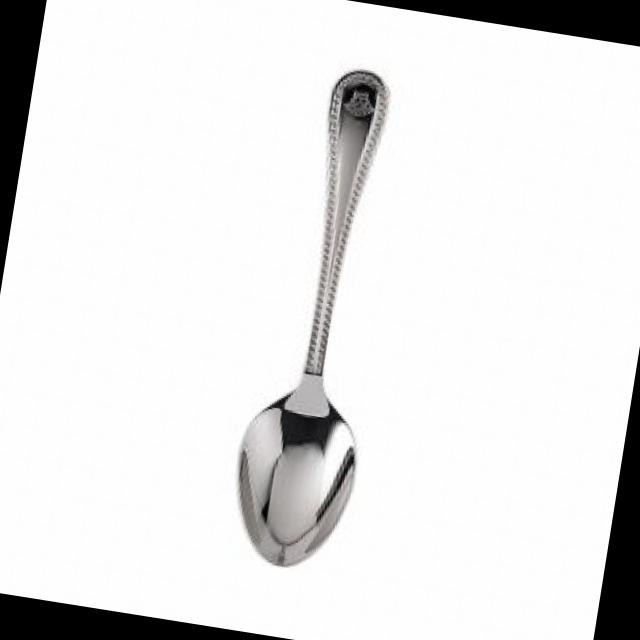spoon: (198, 30, 446, 588)
